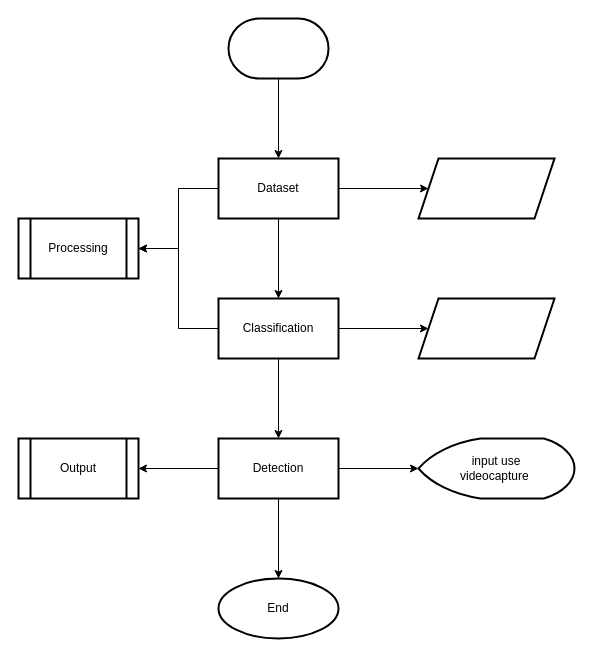
Image size: 592x656. Some labels were removed from this diagram. The centre of each missing label's shape, as x and y in pixels:
"Kaggle" belongs at point 486,188.
"Machine Learning train" belongs at point 486,328.
"Start" belongs at point 278,48.
